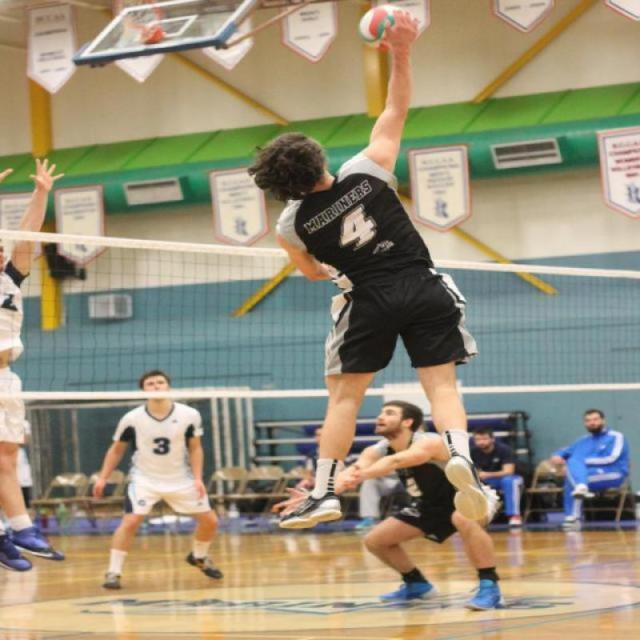volleyball: (356, 0, 422, 51)
